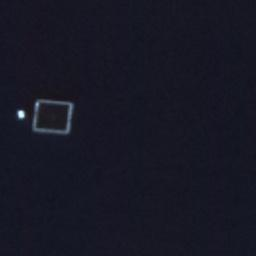square_solid: (27, 94, 79, 139)
